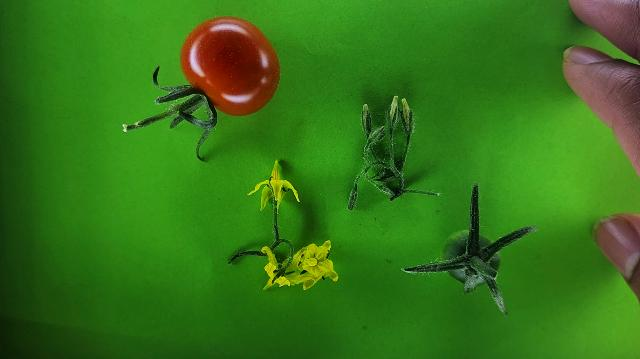Anthesis: (247, 157, 301, 212), (287, 241, 338, 291), (259, 246, 298, 292)
Flower Bud: (390, 95, 399, 120), (401, 97, 410, 117), (362, 104, 368, 125)
Fruit Maturation: (441, 229, 501, 285)
Fully Grown: (179, 15, 281, 117)
